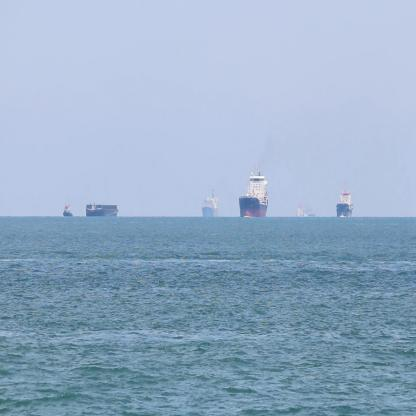Container Ship: (237, 160, 270, 219), (335, 178, 354, 220), (82, 196, 119, 216), (200, 185, 221, 220), (61, 201, 74, 218)
